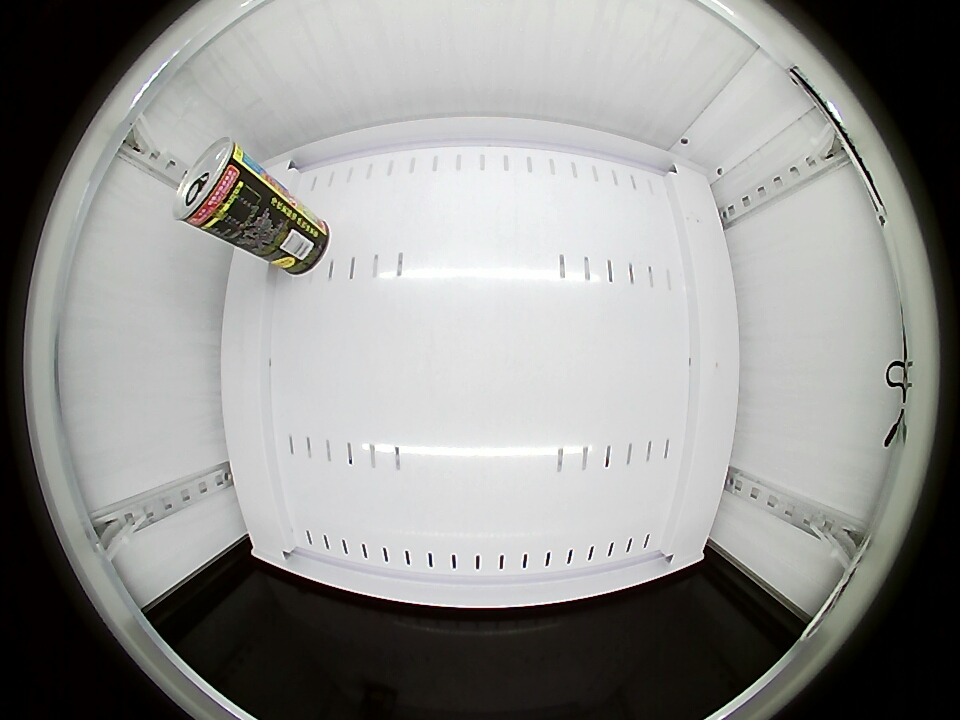yezhi: (173, 138, 253, 234)
